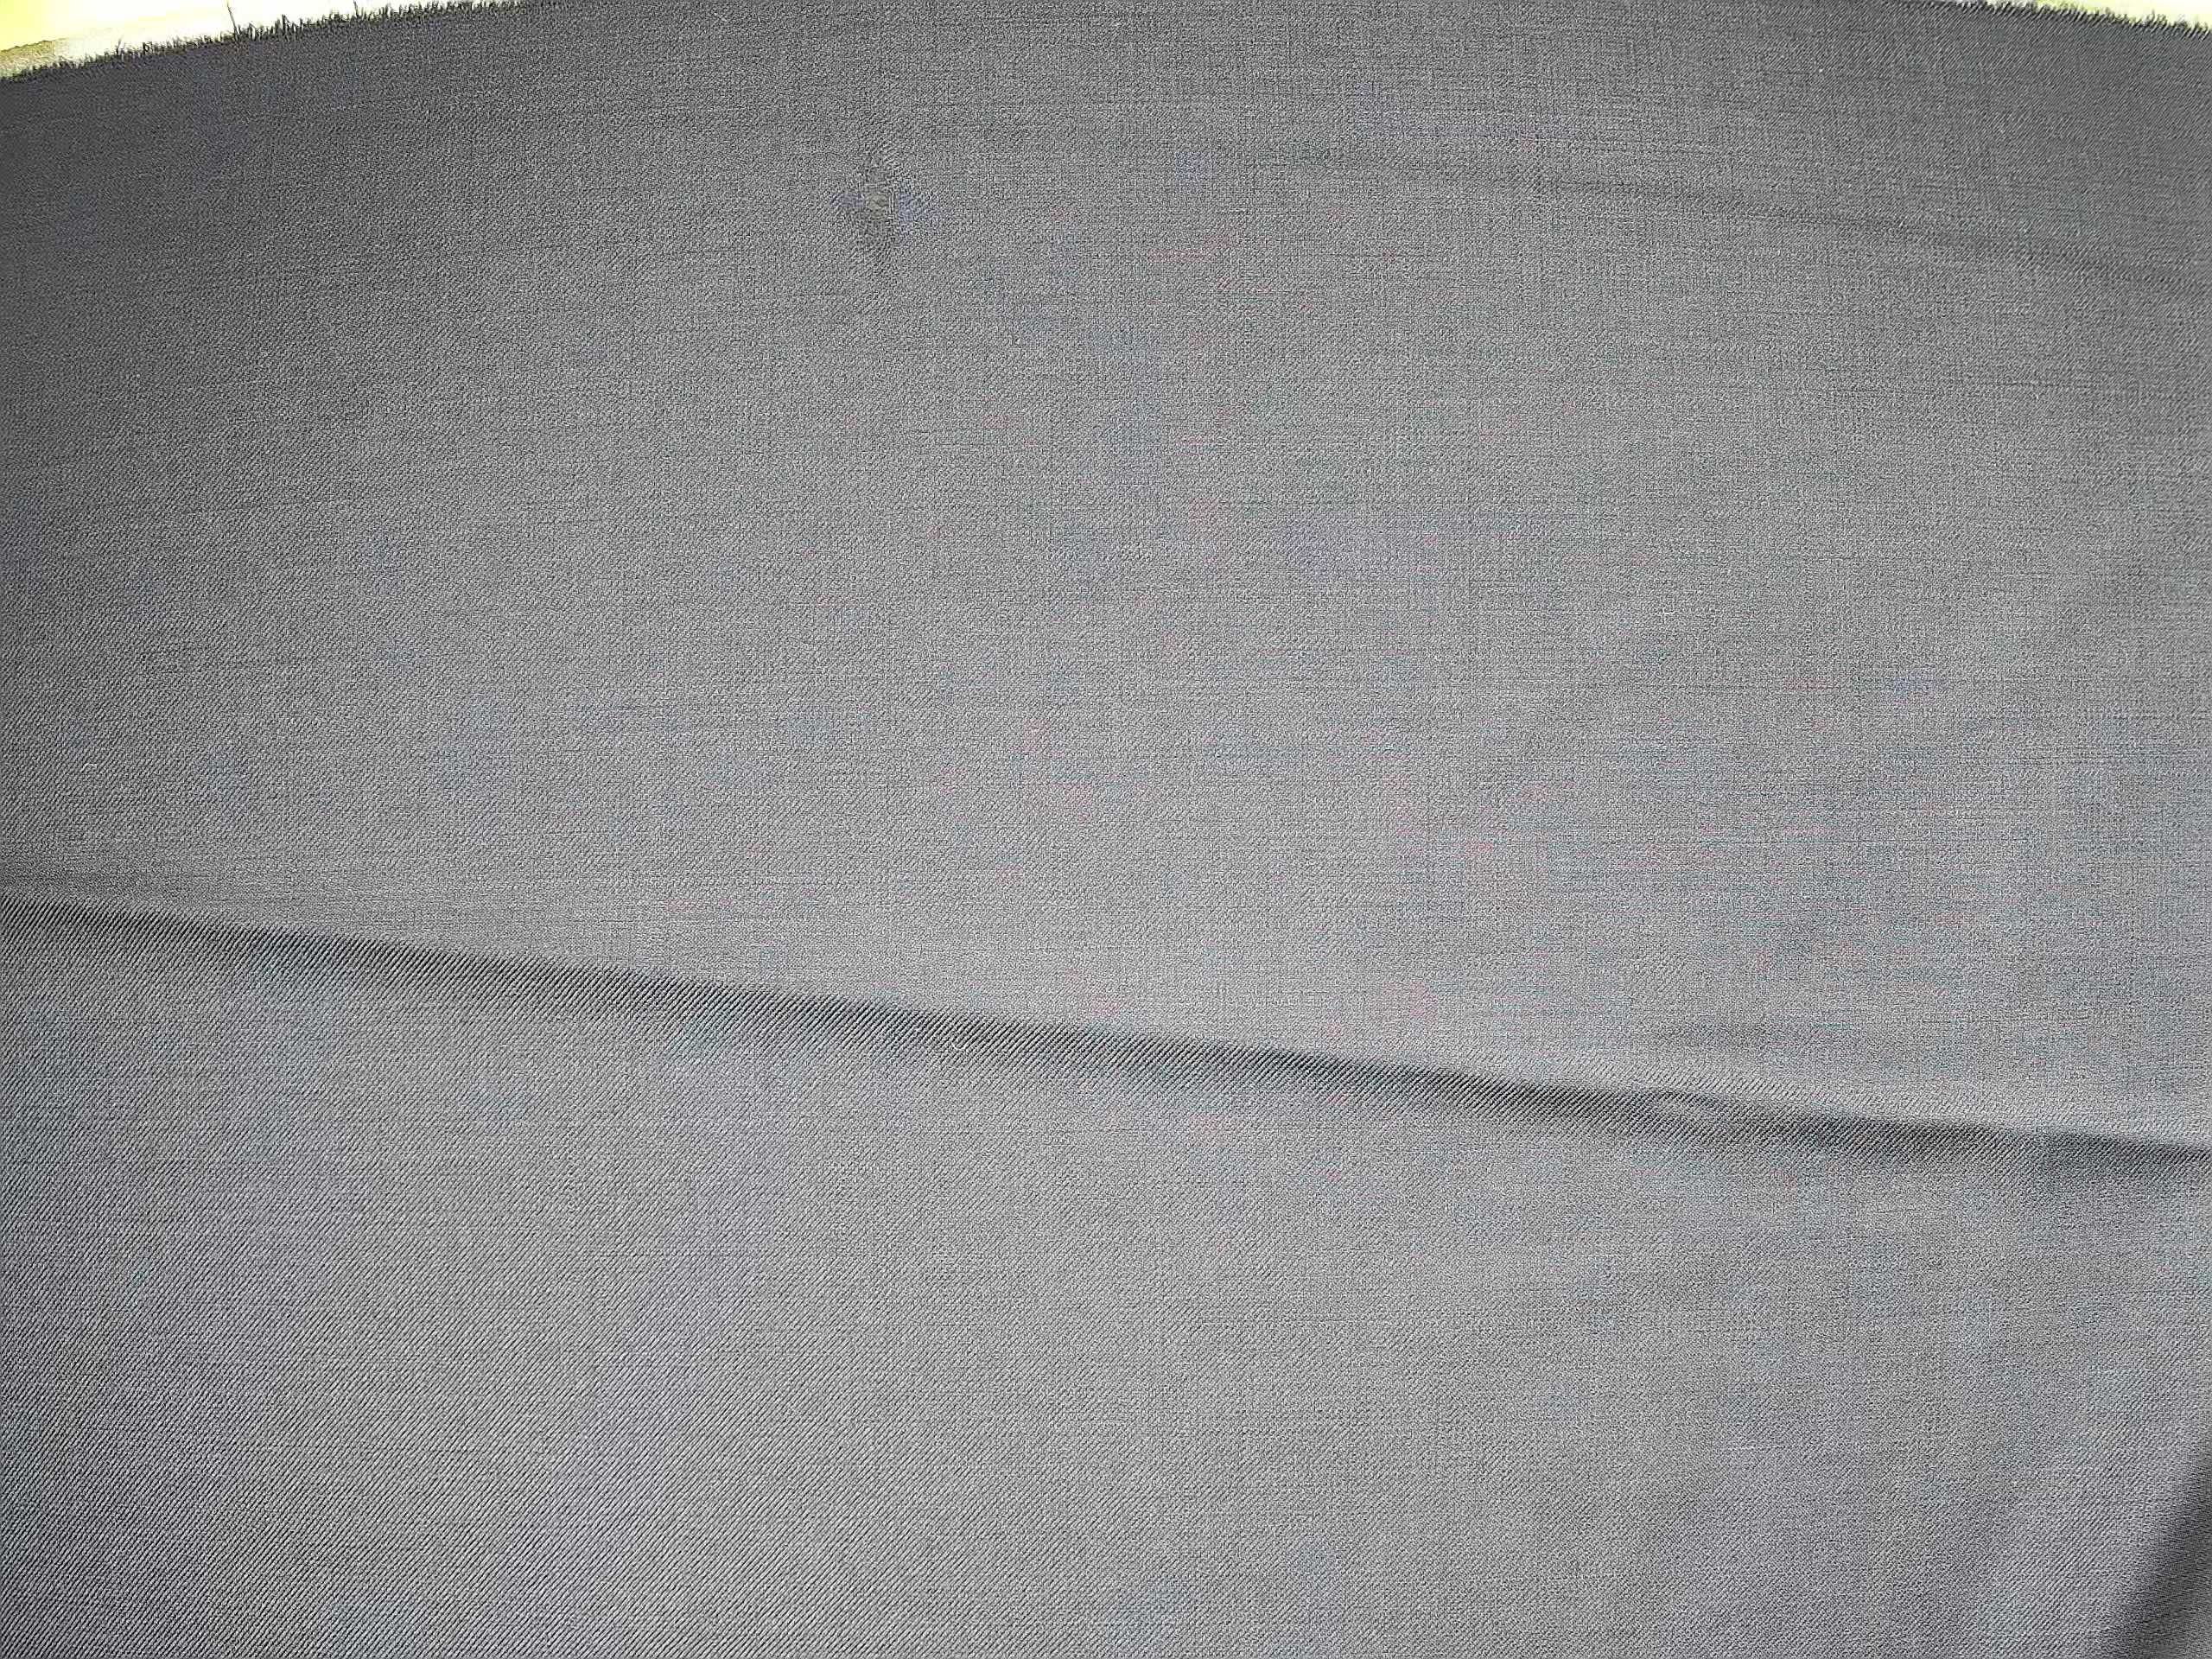rubbing-hole: (813, 118, 941, 298)
